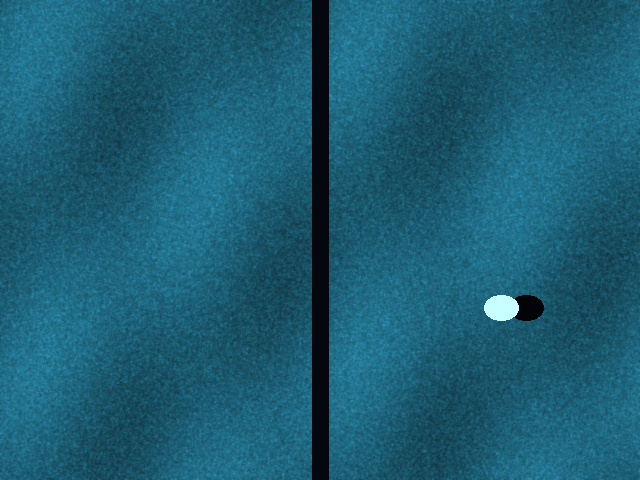Bottle: (484, 295, 518, 320)
